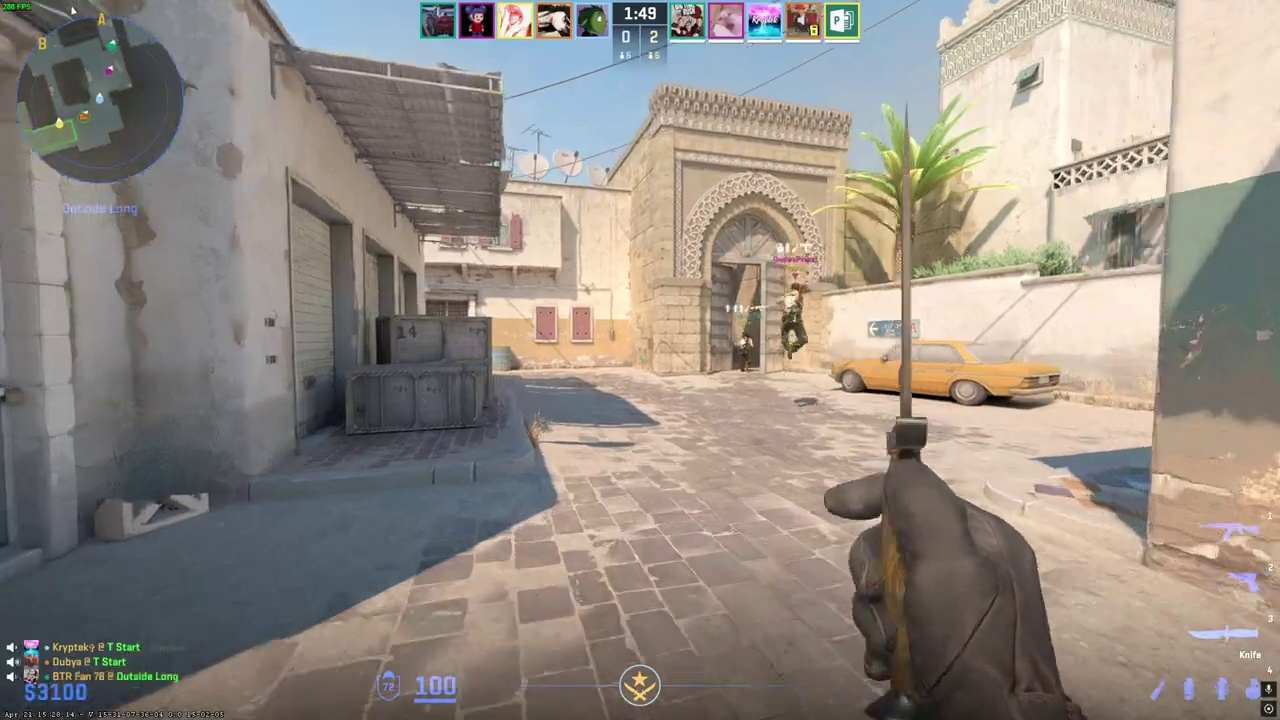Terrorist: (780, 282, 808, 360), (738, 332, 754, 372)
